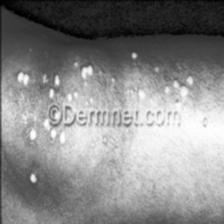Toxin: (41, 58, 97, 104), (164, 76, 196, 108), (40, 120, 68, 145), (14, 67, 32, 89), (124, 86, 146, 100), (27, 126, 38, 142), (128, 47, 140, 61), (28, 172, 38, 184), (88, 139, 97, 149), (200, 118, 209, 128), (109, 74, 117, 83), (101, 136, 109, 144), (152, 64, 160, 72)
